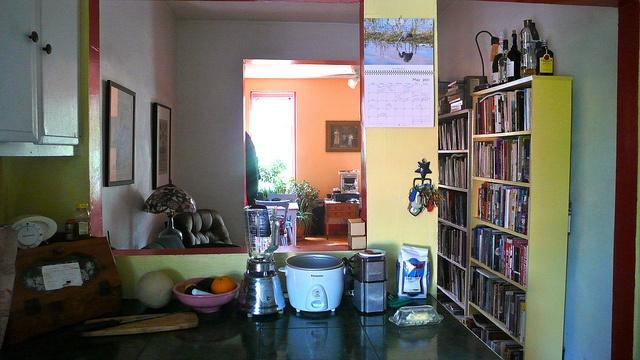Rak: (465, 72, 534, 359), (435, 107, 468, 325)
